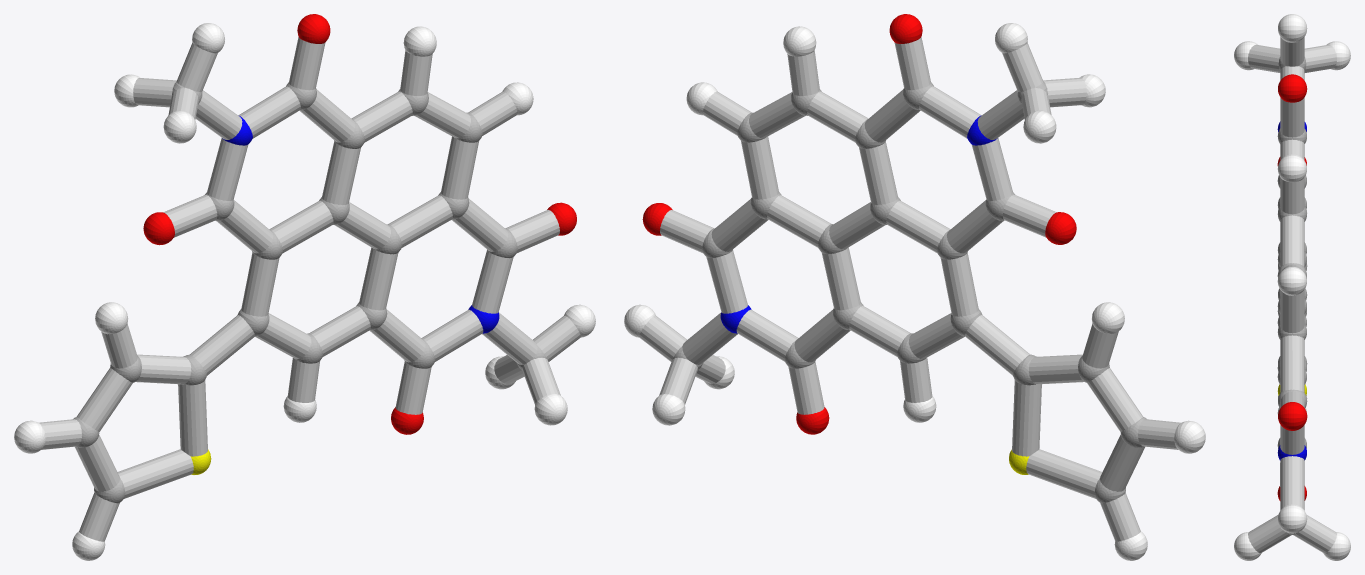
Rendered from color.glb.
The picture shows the model from 3 angles, left to right: view 1: azimuth 30°, elevation 25°; view 2: azimuth 150°, elevation 25°; view 3: azimuth 270°, elevation 25°; orthographic projection. The views are drawn at different scales.
Parts seen in each view (by area): view 1: grp14119, grp7241, grp1, grp12309, grp11585; view 2: grp14119, grp7241, grp1, grp12309, grp11585; view 3: grp14119, grp7241, grp1, grp12309, grp11585.
Boxes of the visible parts, x1,y1,x2,y2 form: grp14119: (39, 37, 580, 541); grp7241: (14, 23, 595, 560); grp1: (73, 82, 546, 503); grp12309: (143, 14, 576, 434); grp11585: (222, 116, 499, 333); grp14119: (639, 37, 1180, 541); grp7241: (624, 23, 1205, 560); grp1: (673, 81, 1146, 503); grp12309: (642, 14, 1076, 434); grp11585: (720, 115, 997, 333); grp14119: (1248, 37, 1336, 553); grp7241: (1234, 14, 1350, 560); grp1: (1277, 57, 1307, 534); grp12309: (1277, 74, 1307, 500); grp11585: (1277, 121, 1306, 460).
Bounding box in the file's own units: 12.07 × 10.1 × 2.39.
